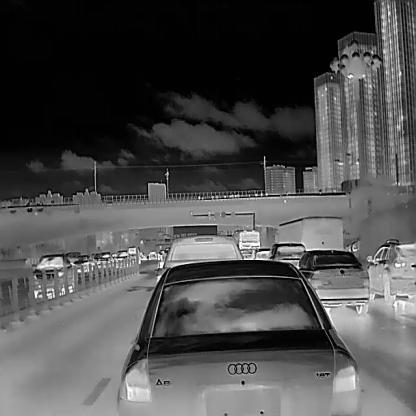car: (116, 259, 361, 415), (297, 248, 370, 314), (366, 238, 416, 303), (274, 216, 343, 251), (31, 254, 72, 296), (235, 228, 261, 255), (69, 253, 99, 274), (125, 245, 140, 266), (114, 249, 129, 267), (97, 252, 113, 268)
